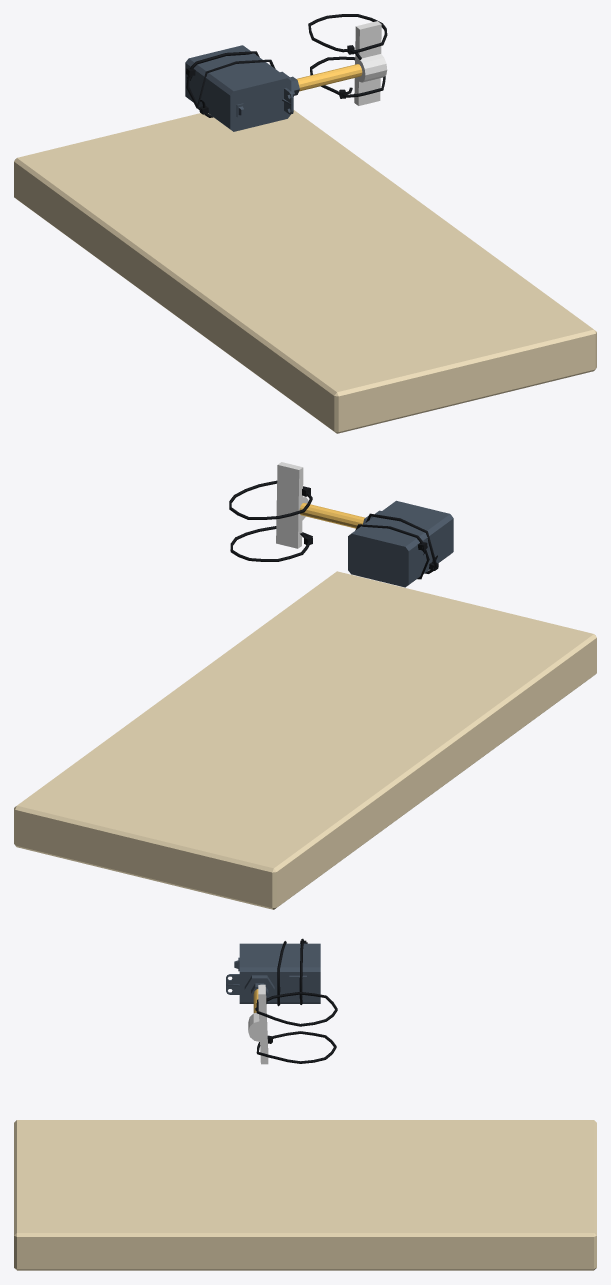
File: ParabolicMicContraption.fbx
3 renders of one model, top to bottom at view 1: azimuth 30°, elevation 25°; view 2: azimuth 150°, elevation 25°; view 3: azimuth 270°, elevation 25°, orthographic. The views are drawn at different scales.
Visible parts, largest first — view 1: BasePlank, ElectricMotor_1, DishBracing; view 2: BasePlank, ElectricMotor_1, DishBracing; view 3: BasePlank, ElectricMotor_1, DishBracing.
Part boxes in pixels (x1=…): BasePlank: x1=14, y1=110, x2=596, y2=433; ElectricMotor_1: x1=185, y1=45, x2=299, y2=131; DishBracing: x1=296, y1=14, x2=387, y2=105; BasePlank: x1=14, y1=571, x2=596, y2=909; ElectricMotor_1: x1=348, y1=500, x2=453, y2=587; DishBracing: x1=229, y1=462, x2=365, y2=561; BasePlank: x1=14, y1=1120, x2=596, y2=1270; ElectricMotor_1: x1=226, y1=938, x2=320, y2=1006; DishBracing: x1=248, y1=984, x2=337, y2=1064.
Size of the model in its own units: 26.44 by 26.06 by 56.38.
